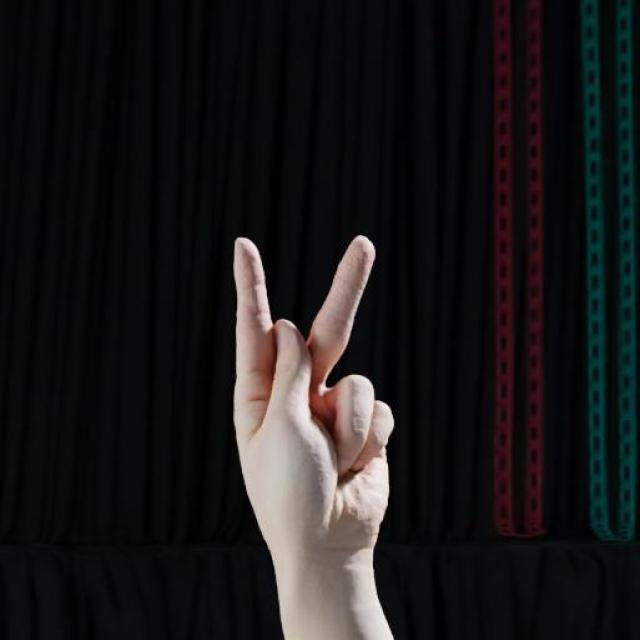K: (229, 233, 395, 557)
